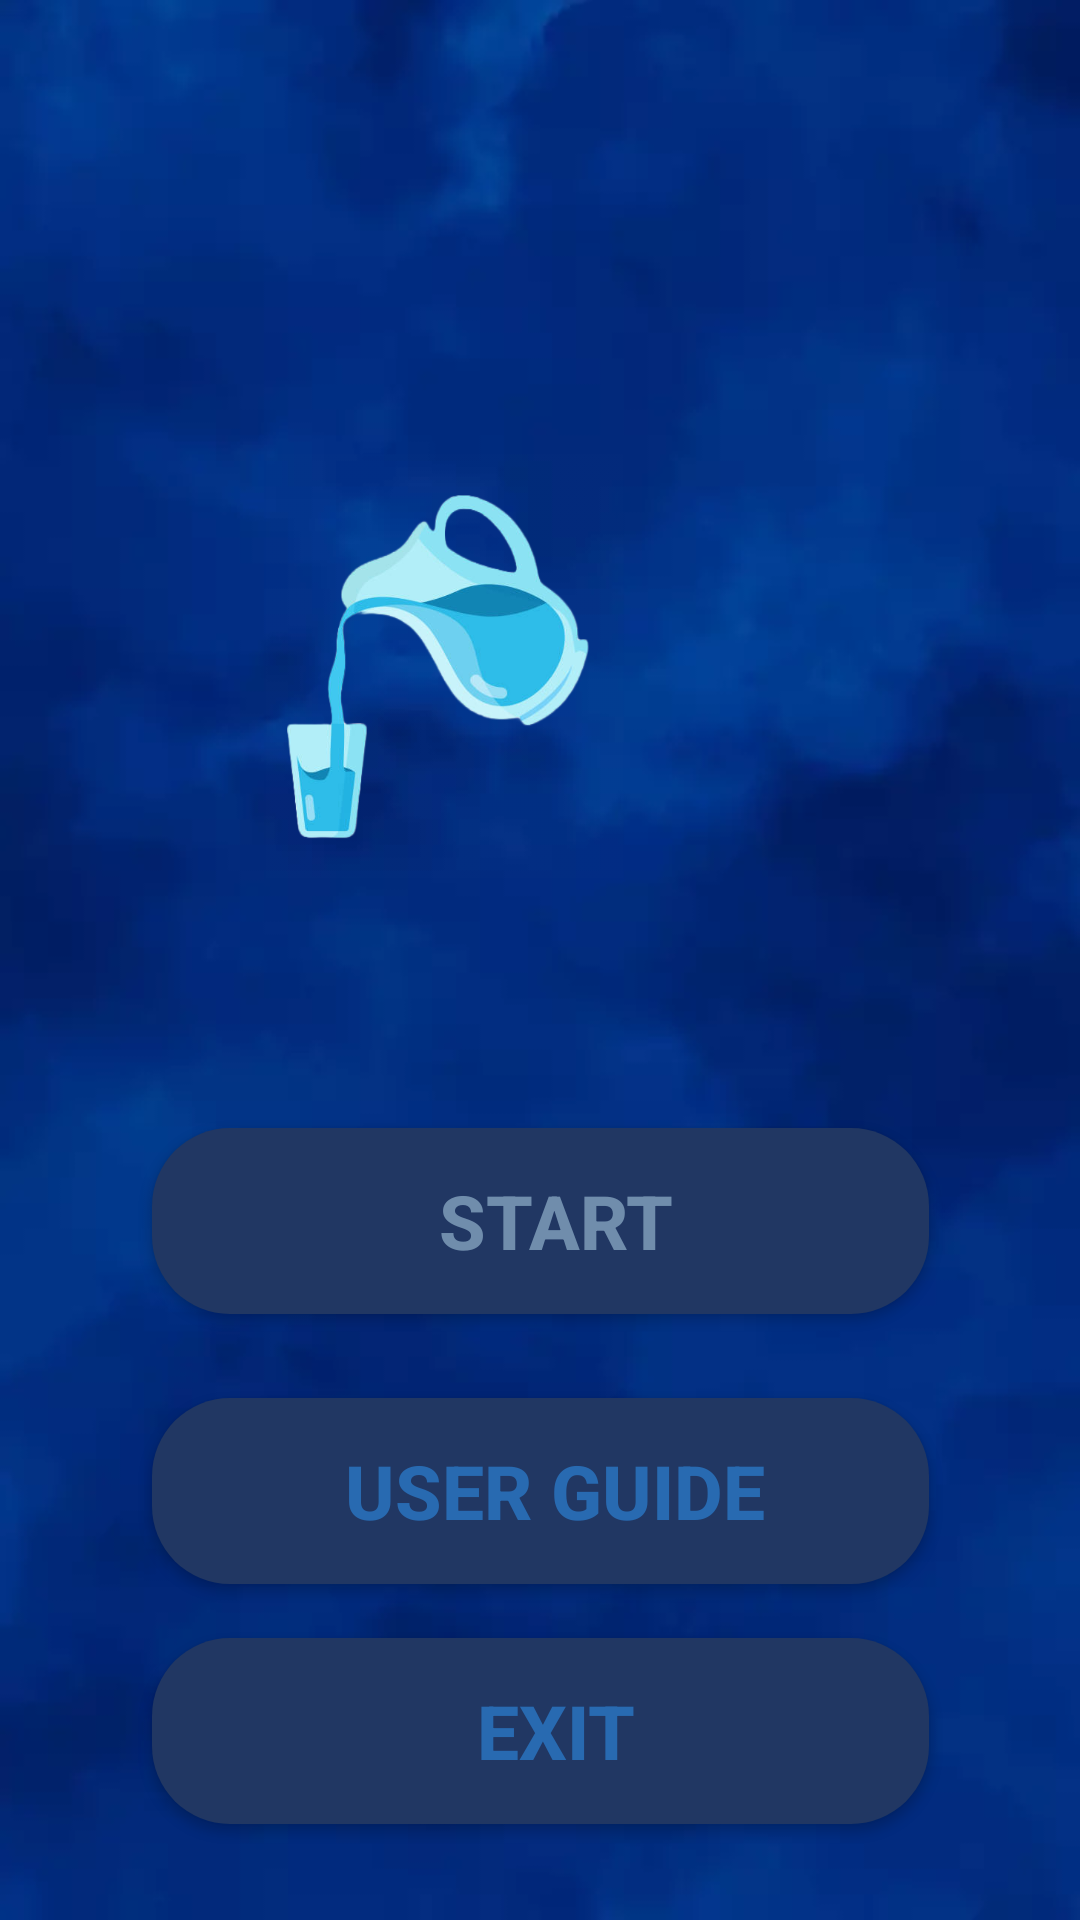

Screen size 1080*1920. Icon name, then its box in pixels as (x1, y1, x2, y2):
waterflowt: (287, 495, 589, 838)
